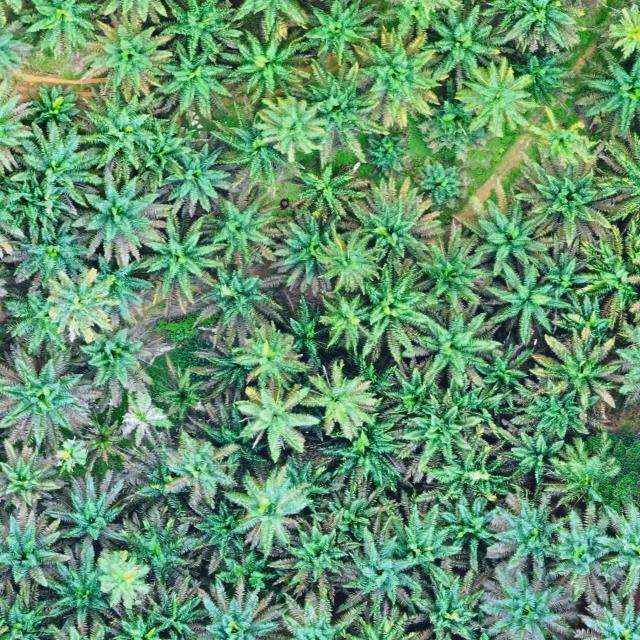Tree: (0, 344, 109, 450), (299, 55, 394, 169), (76, 170, 183, 270), (350, 254, 445, 365), (511, 150, 610, 248), (0, 212, 109, 301), (475, 257, 575, 353), (7, 115, 107, 209), (360, 24, 444, 134), (470, 560, 583, 640), (343, 178, 442, 269), (204, 109, 311, 192), (73, 90, 170, 181), (458, 195, 557, 282), (139, 212, 223, 314), (84, 11, 174, 106), (192, 258, 288, 347), (480, 485, 570, 579), (339, 526, 433, 616), (420, 0, 517, 85), (224, 464, 316, 553), (415, 218, 499, 314), (527, 329, 623, 411), (0, 504, 76, 607), (448, 55, 542, 138), (418, 303, 507, 390), (545, 502, 624, 600), (38, 468, 136, 547), (398, 392, 483, 482), (270, 205, 354, 296), (218, 22, 312, 102), (532, 432, 625, 512), (199, 184, 286, 269), (235, 381, 322, 464), (148, 40, 238, 120), (268, 518, 364, 592), (318, 420, 410, 494), (160, 429, 242, 512), (300, 356, 383, 438), (383, 502, 462, 586), (186, 394, 273, 470), (105, 432, 188, 510), (114, 503, 200, 578), (0, 433, 76, 517), (194, 574, 289, 640), (295, 482, 399, 542), (576, 43, 640, 138), (408, 566, 489, 640), (228, 321, 310, 394), (575, 234, 640, 326), (480, 0, 586, 56), (512, 377, 600, 443), (254, 86, 328, 164), (47, 266, 121, 344), (44, 542, 116, 622), (297, 0, 381, 68), (289, 158, 373, 225), (418, 446, 515, 504), (165, 140, 234, 217), (17, 0, 104, 60), (162, 0, 246, 62), (138, 570, 212, 640), (88, 254, 157, 329), (408, 95, 489, 158), (188, 498, 255, 574), (435, 490, 500, 567), (276, 288, 338, 366), (184, 332, 258, 396), (76, 328, 153, 388), (530, 241, 595, 312), (3, 286, 70, 354), (108, 380, 175, 447), (376, 362, 454, 419), (511, 44, 578, 108), (501, 424, 566, 486), (318, 289, 379, 355), (152, 359, 207, 421), (136, 122, 195, 178), (475, 339, 532, 394), (24, 80, 83, 132), (415, 158, 472, 210), (362, 131, 414, 176), (80, 415, 125, 464), (47, 436, 93, 478)
